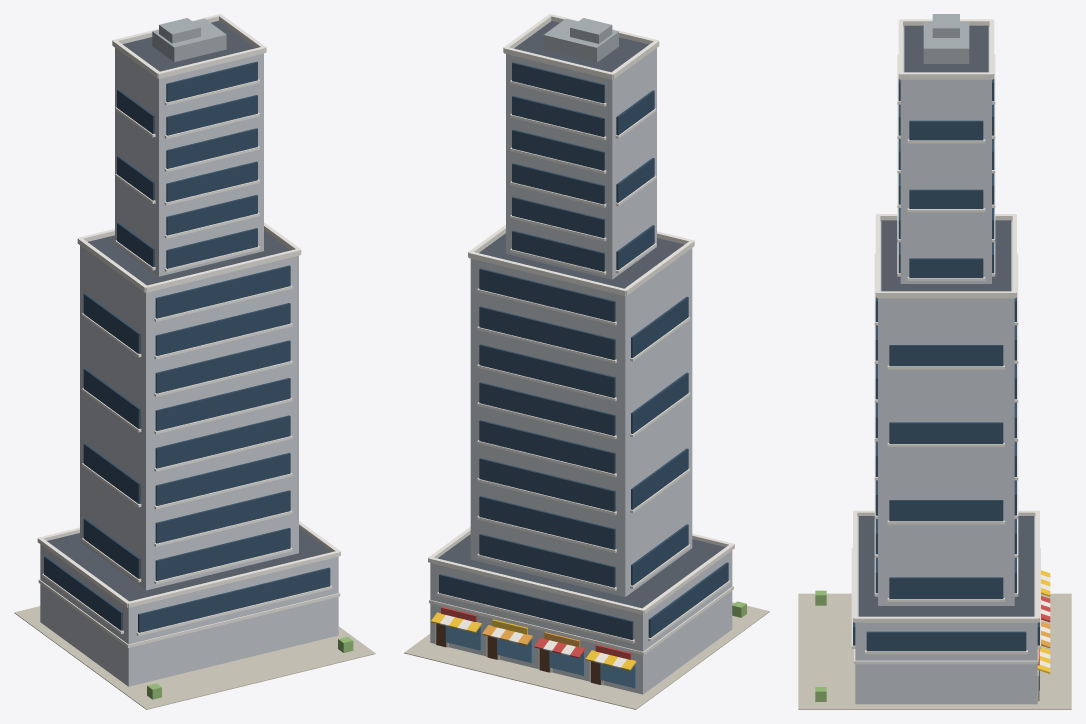
The picture shows the model from 3 angles, left to right: view 1: azimuth 30°, elevation 25°; view 2: azimuth 150°, elevation 25°; view 3: azimuth 270°, elevation 25°; orthographic projection. The views are drawn at different scales.
Visible parts, largest first — view 1: window_band (×23), stage1, podium, stage2, roof (×3), ground, parapet (×5), crown, string_course, plant_room, sill; view 2: window_band (×23), stage1, stage2, podium, roof (×3), ground, parapet (×5), storefront (×4), crown, string_course, plant_room, sill; view 3: stage1, window_band (×8), stage2, podium, roof (×3), ground, parapet (×6), sill (×3), crown, string_course, plant_room.
Part boxes in pixels (x1,y1,x2,y2): window_band (×23): (44,61,330,632); stage1: (80,245,298,590); podium: (40,544,338,686); stage2: (115,48,263,276); roof (×3): (47,20,331,601); ground: (14,606,375,709); parapet (×5): (37,46,340,607); crown: (152,18,226,62); string_course: (38,579,340,647); plant_room: (159,18,200,43); sill: (136,585,332,635); window_band (×23): (439,62,728,639); stage1: (470,248,692,596); stage2: (506,48,656,279); podium: (430,550,732,694); roof (×3): (437,21,725,608); ground: (404,602,769,709); parapet (×5): (428,46,734,614); storefront (×4): (445,625,636,688); crown: (543,18,618,62); string_course: (429,586,733,655); plant_room: (570,18,612,43); sill: (437,592,634,643); stage1: (878,221,1014,605); window_band (×8): (866,120,1026,651); stage2: (900,26,991,283); podium: (855,516,1037,704); roof (×3): (858,25,1034,616); ground: (798,593,1071,709); parapet (×6): (853,72,1039,622); sill (×3): (865,365,1027,654); crown: (923,22,969,63); string_course: (854,649,1038,664); plant_room: (932,14,959,37).
Size of the model in its own units: 24 by 60.59 by 24.
